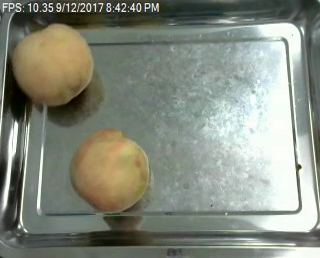Peach: (12, 23, 95, 106), (71, 127, 150, 214)
